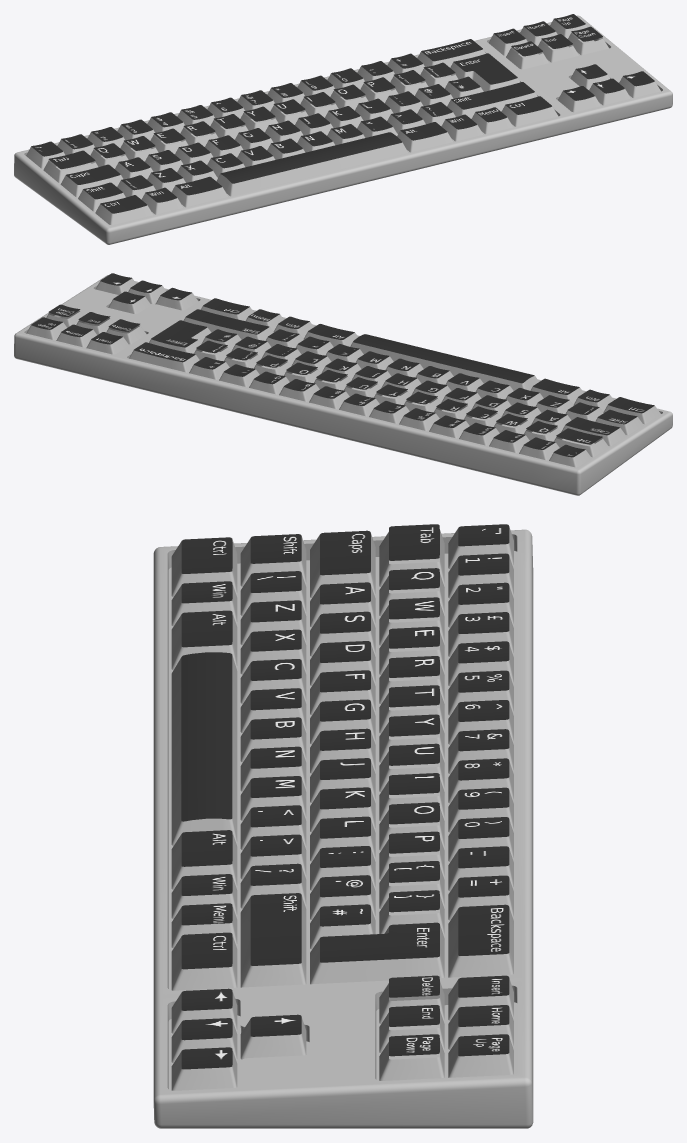
File: keyboard_uk-semicompact-angled.obj
3 views of the same model, one above another, from view 1: azimuth 30°, elevation 25°; view 2: azimuth 150°, elevation 25°; view 3: azimuth 270°, elevation 25° (orthographic). The views are drawn at different scales.
Parts seen in each view (by area): view 1: keyboard_uk-semicompact-angled.obj; view 2: keyboard_uk-semicompact-angled.obj; view 3: keyboard_uk-semicompact-angled.obj.
Part boxes in pixels (box(x1,y1,x2,y2)): keyboard_uk-semicompact-angled.obj: box(14, 14, 672, 244); keyboard_uk-semicompact-angled.obj: box(14, 273, 672, 495); keyboard_uk-semicompact-angled.obj: box(153, 524, 533, 1128).
Size of the model in its own units: 0.359 by 0.0198 by 0.1042.
